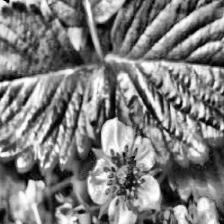Blossom Blight: (100, 143, 146, 212)
